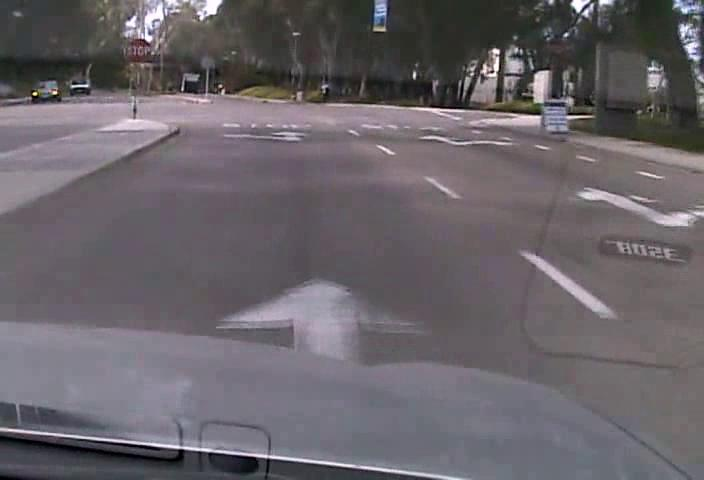stop: (125, 37, 152, 62)
